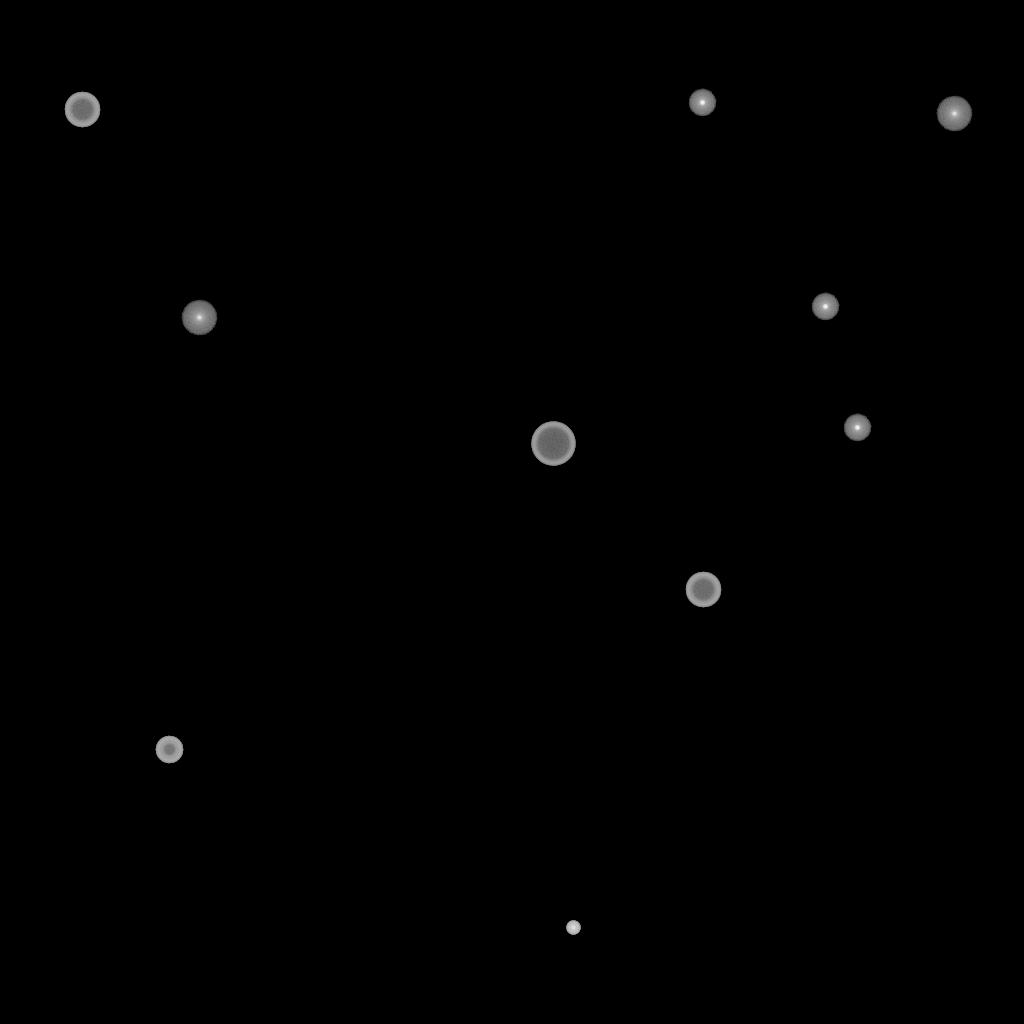depth:-10: (688, 89, 716, 117), (811, 293, 839, 321), (843, 414, 871, 442)
depth:-30: (566, 921, 580, 935)
depth:-50: (155, 736, 183, 764)
depth:-60: (685, 572, 721, 608), (64, 92, 100, 128)
depth:-70: (531, 422, 575, 466)
depth:0: (181, 300, 217, 336), (936, 96, 972, 132)
